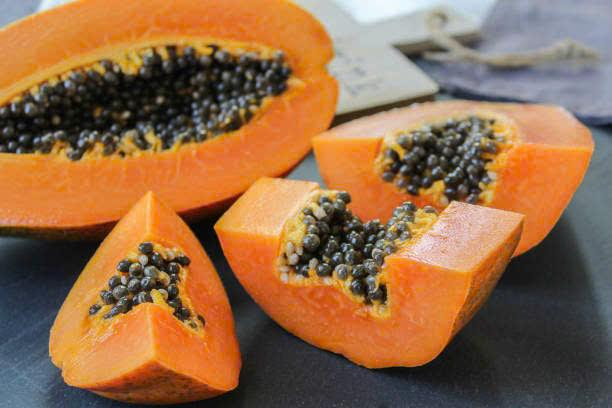papaya: (0, 0, 338, 213), (211, 174, 527, 370), (312, 99, 599, 246), (51, 189, 241, 395)
